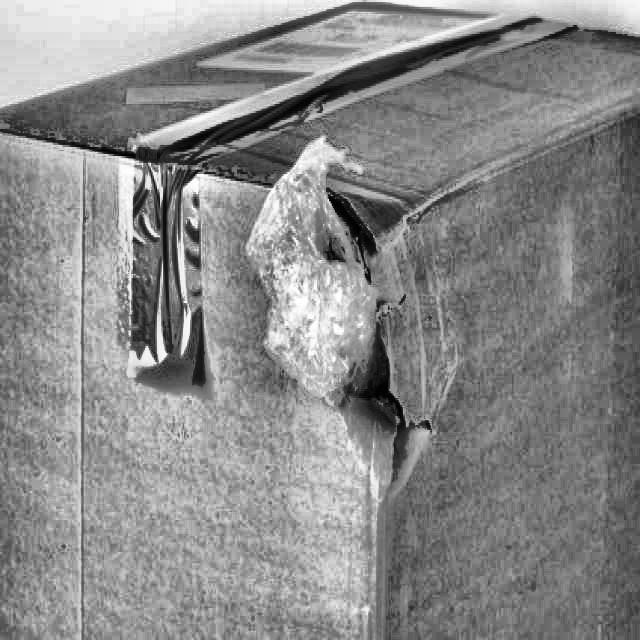box: (0, 0, 639, 639)
hole: (360, 340, 434, 451)
